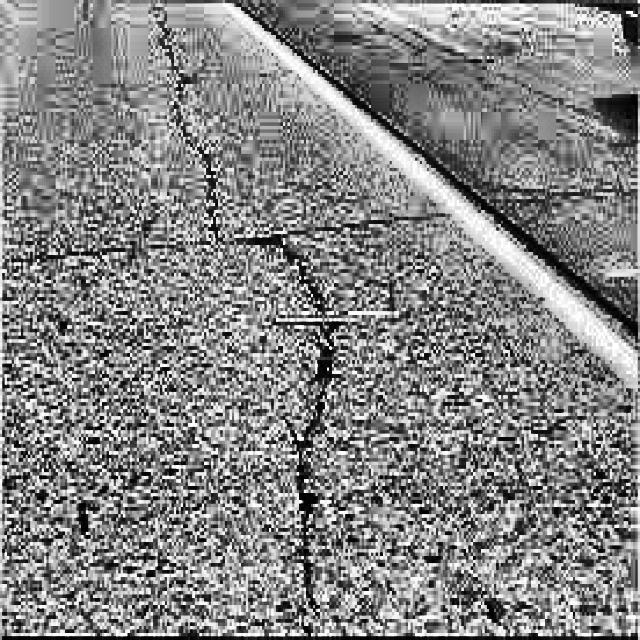cracks: (285, 318, 339, 549), (172, 63, 220, 241), (248, 234, 322, 311)
